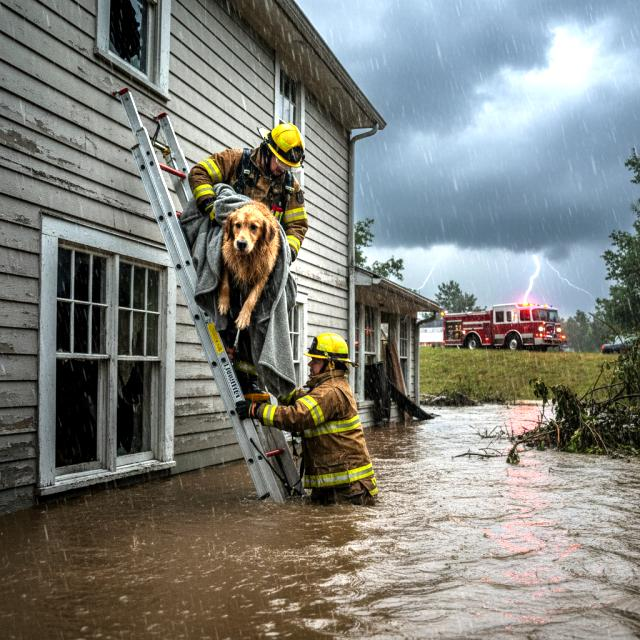dog: (217, 194, 284, 324)
rescuer: (243, 316, 396, 521), (184, 120, 312, 352)
